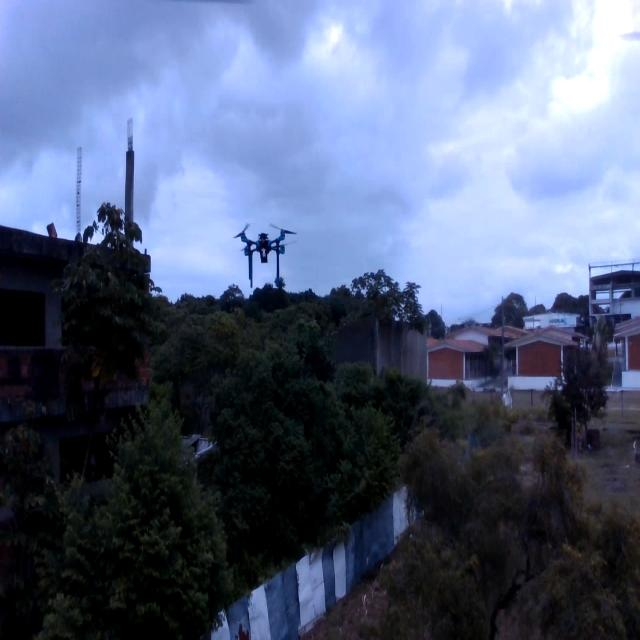-uav-: (222, 195, 300, 294)
